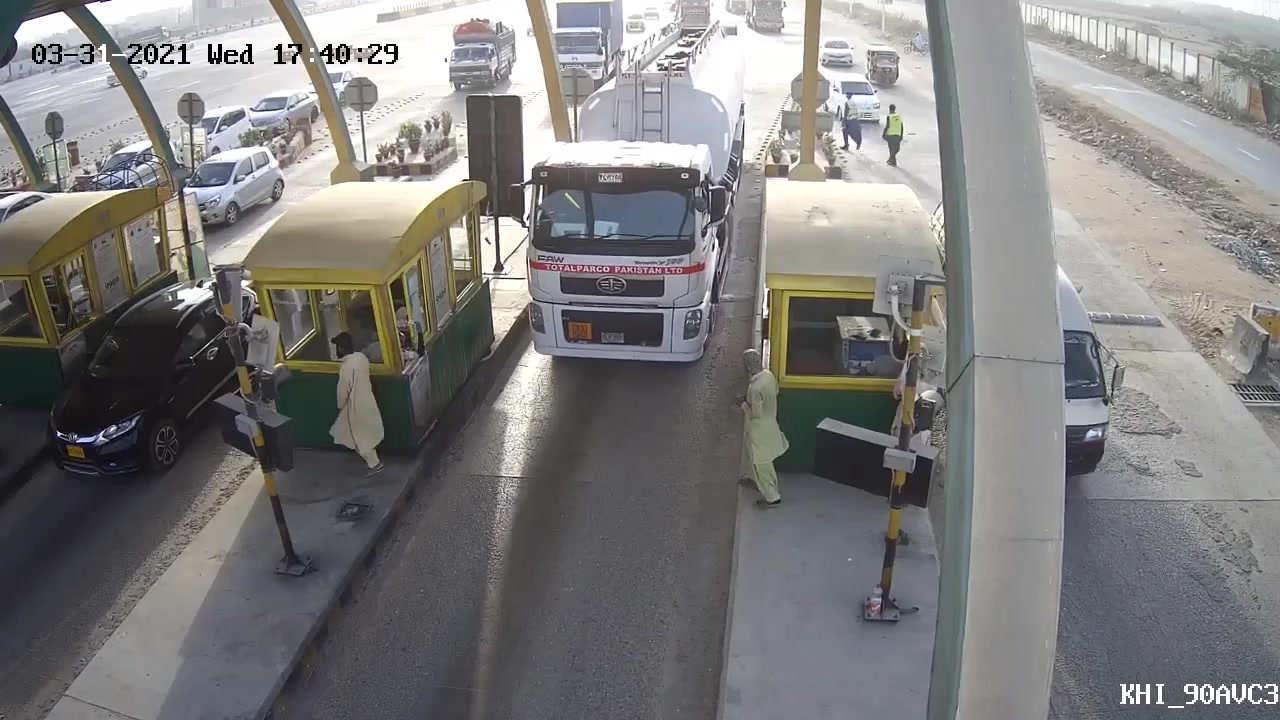F6: (489, 79, 729, 390)
